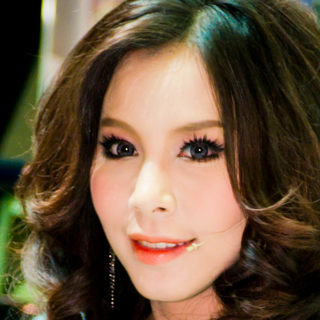eye: (177, 135, 224, 164), (99, 134, 140, 164)
